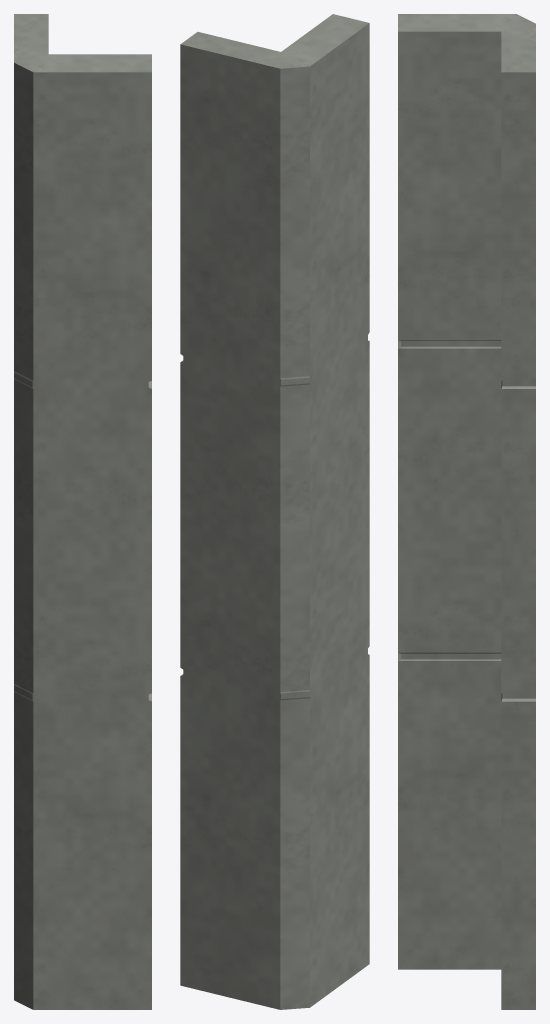
Rendered from concrete-chamfer-corner.lod0.glb.
3 renders of one model, left to right at view 1: azimuth 90°, elevation 25°; view 2: azimuth 150°, elevation 25°; view 3: azimuth 270°, elevation 25°, orthographic.
Parts seen in each view (by area): view 1: concrete-chamfer-corner; view 2: concrete-chamfer-corner; view 3: concrete-chamfer-corner.
Part boxes in pixels (left/top/right/bottom): concrete-chamfer-corner: left=14, top=14, right=151, bottom=1009; concrete-chamfer-corner: left=180, top=14, right=369, bottom=1009; concrete-chamfer-corner: left=398, top=14, right=535, bottom=1009.
Size of the model in its own units: 0.36 by 2.7 by 0.36.
Materials: 1 (1 with a texture image).
